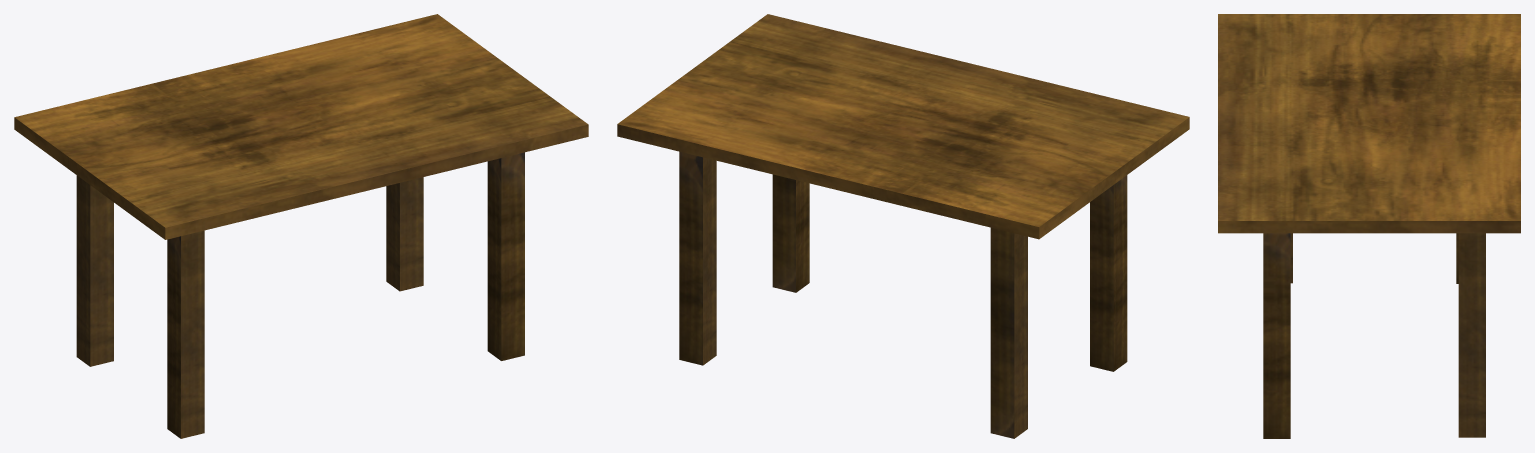
Rendered from comedor.obj.
The picture shows the model from 3 angles, left to right: view 1: azimuth 30°, elevation 25°; view 2: azimuth 150°, elevation 25°; view 3: azimuth 270°, elevation 25°; orthographic projection.
Visible parts, largest first — view 1: Mesh1Model; view 2: Mesh1Model; view 3: Mesh1Model.
Part boxes in pixels (x1=…): Mesh1Model: x1=14, y1=14, x2=588, y2=438; Mesh1Model: x1=617, y1=14, x2=1189, y2=438; Mesh1Model: x1=1218, y1=14, x2=1520, y2=438.
Bounding box in the file's own units: 1.8 × 0.9657 × 1.11.
1 material, 1 textured.
